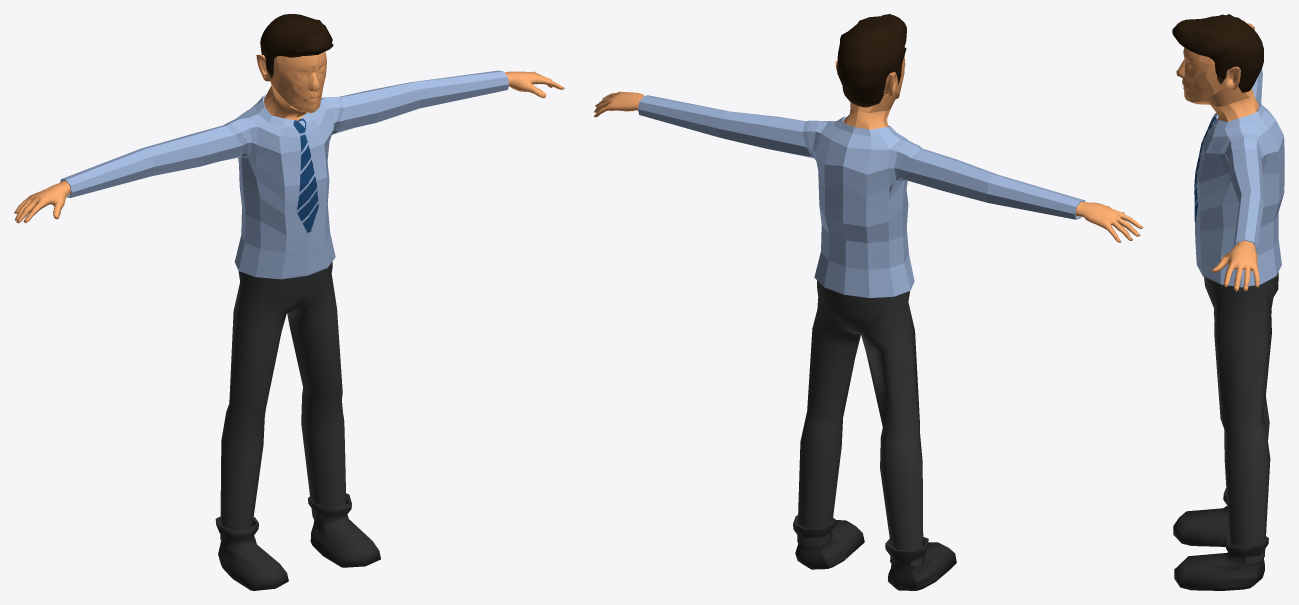
The model's file is Worker02.fbx.
3 views of the same model, side by side, from view 1: azimuth 30°, elevation 25°; view 2: azimuth 150°, elevation 25°; view 3: azimuth 270°, elevation 25° (orthographic).
Parts seen in each view (by area): view 1: worker, worker.001; view 2: worker, worker.001; view 3: worker, worker.001.
Part boxes in pixels (left/top/right/bottom): worker: left=14, top=14, right=564, bottom=590; worker.001: left=60, top=70, right=509, bottom=279; worker: left=593, top=14, right=1143, bottom=590; worker.001: left=638, top=95, right=1085, bottom=297; worker: left=1172, top=14, right=1278, bottom=590; worker.001: left=1194, top=69, right=1284, bottom=287.
Size of the model in its own units: 1538 by 1469 by 276.
